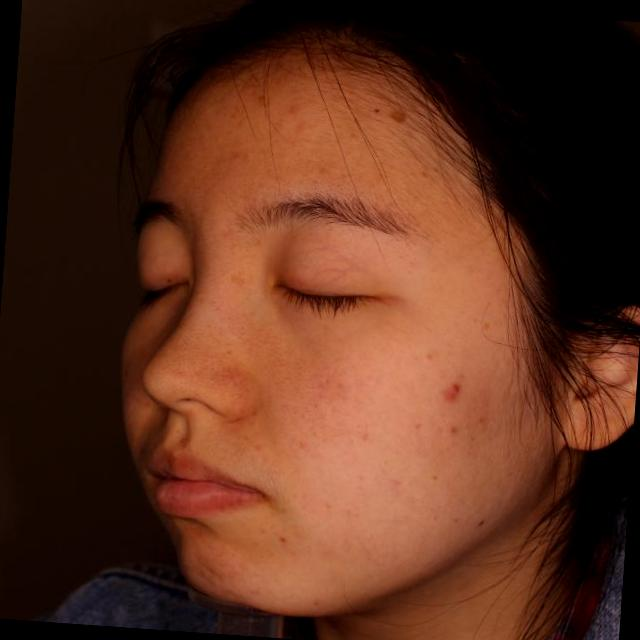acne: (435, 378, 466, 412)
